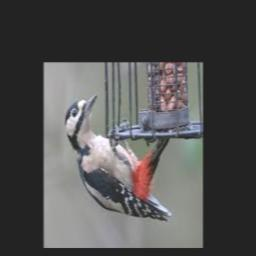Woodpecker: (65, 94, 171, 221)
